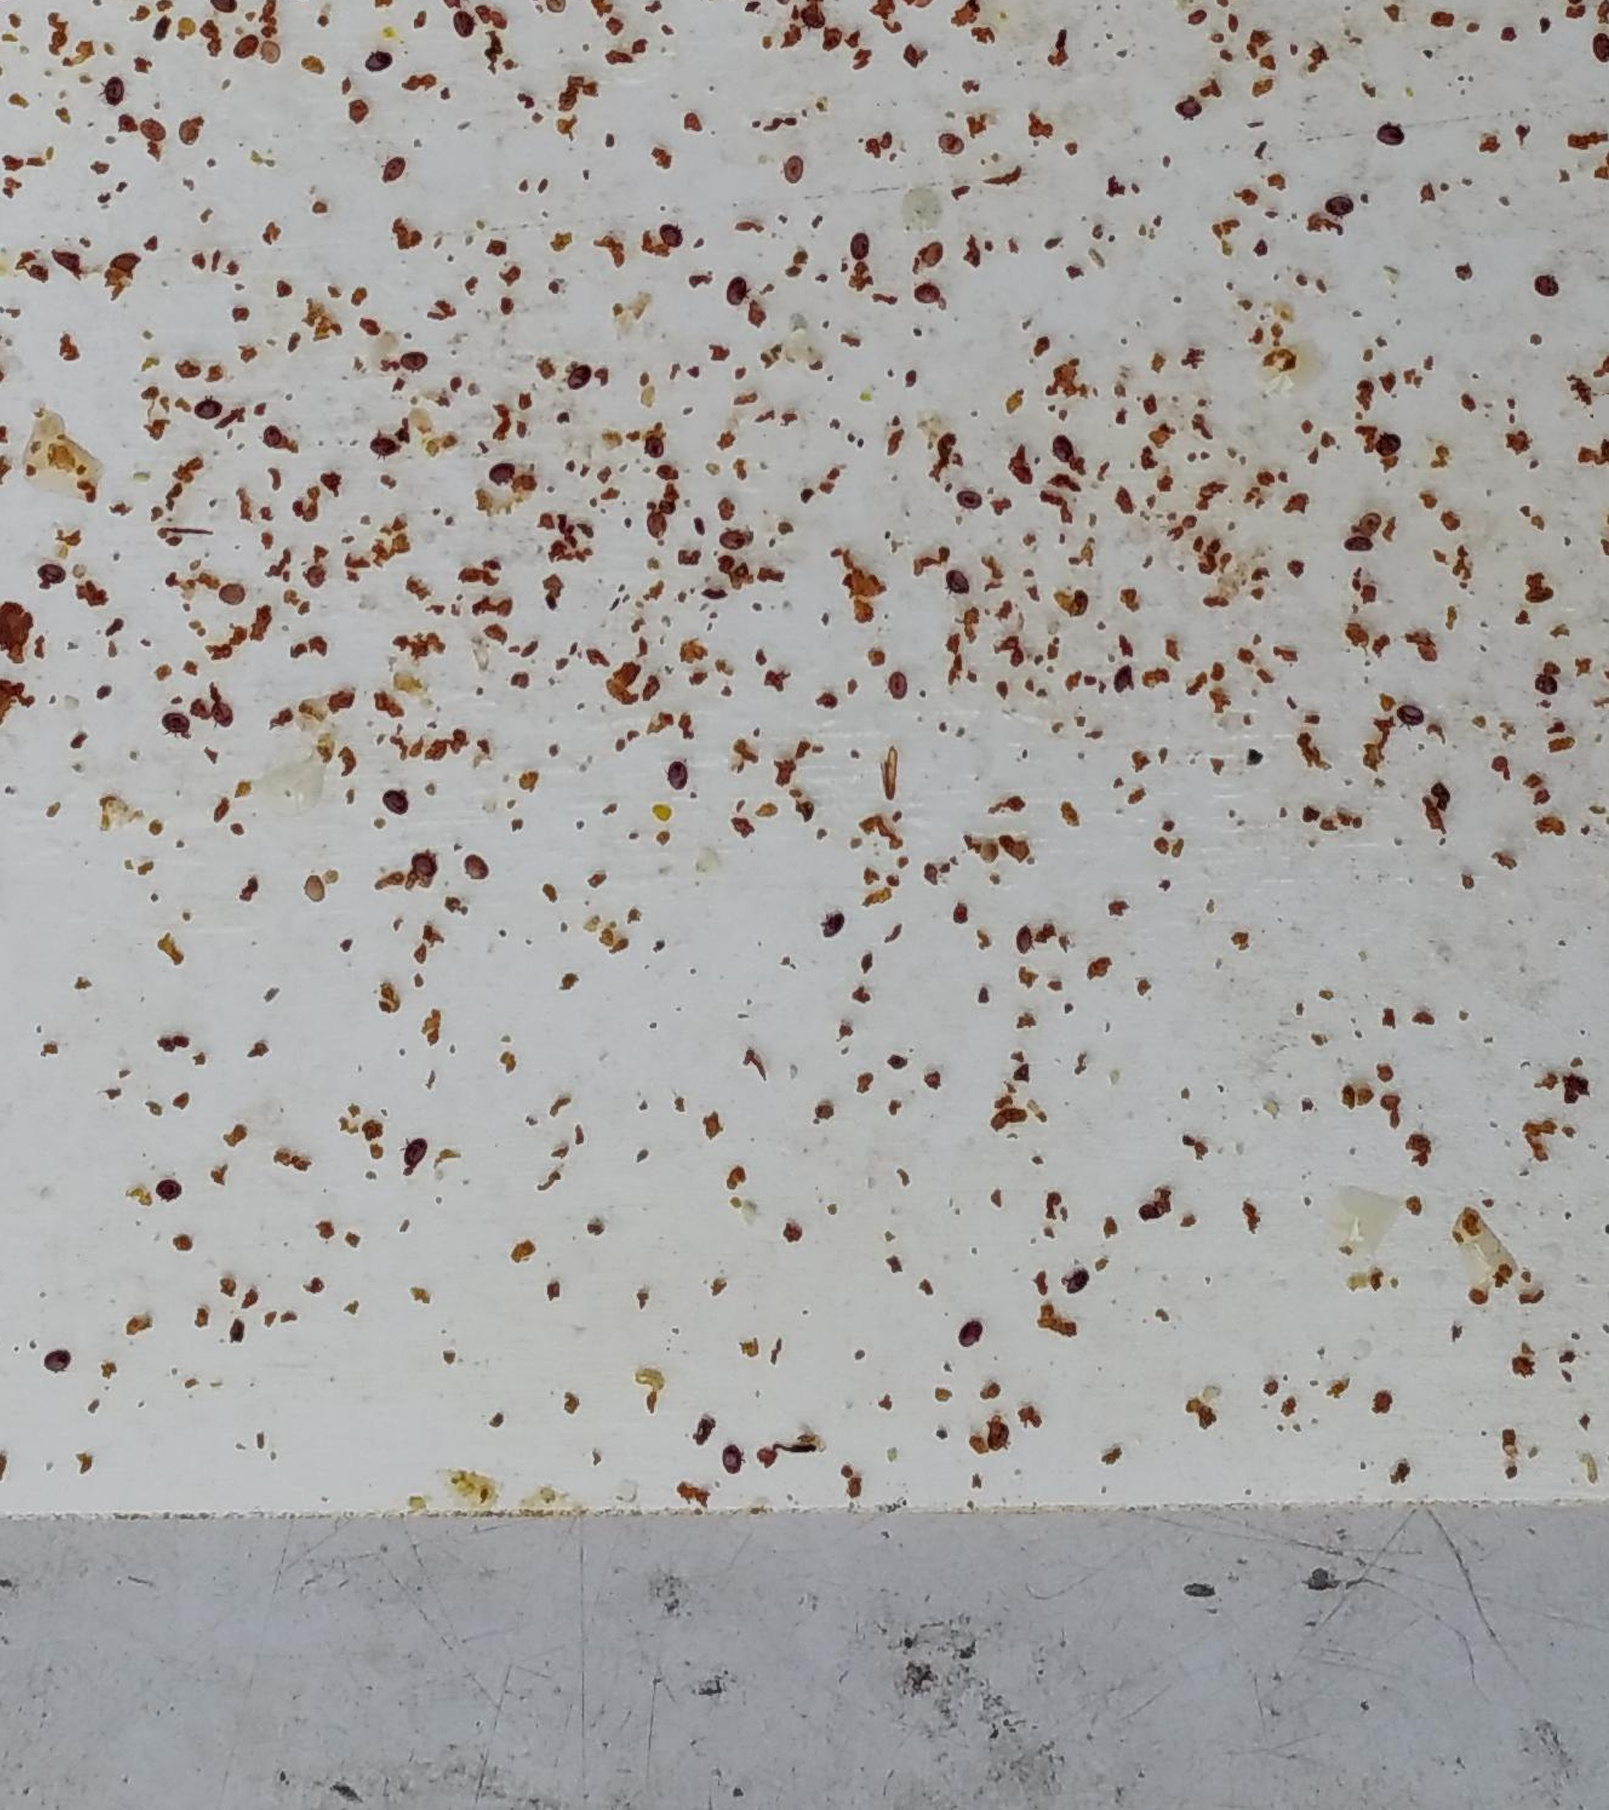Varroa: (130, 109, 172, 151), (373, 148, 415, 190), (391, 340, 433, 382), (770, 149, 812, 191), (1166, 89, 1208, 131), (1368, 113, 1410, 155), (30, 555, 71, 597), (360, 427, 402, 469), (635, 503, 677, 545), (1524, 663, 1566, 705), (1368, 426, 1410, 468), (374, 781, 416, 823), (811, 904, 853, 946), (92, 71, 134, 112), (166, 110, 207, 152), (559, 356, 599, 398), (718, 270, 758, 312), (842, 225, 884, 266), (907, 270, 947, 312), (913, 231, 954, 273), (930, 124, 971, 166), (1319, 186, 1361, 227), (1525, 266, 1566, 308), (634, 426, 674, 468), (935, 562, 975, 604), (947, 482, 988, 524), (710, 519, 752, 559), (1103, 660, 1145, 701), (1336, 522, 1378, 562), (1388, 696, 1430, 736), (294, 868, 335, 909), (455, 848, 495, 890), (655, 757, 697, 797), (37, 1341, 78, 1383), (393, 1131, 433, 1173), (947, 1313, 989, 1353), (1129, 1189, 1169, 1230), (227, 25, 267, 65), (446, 3, 486, 44), (357, 42, 398, 82), (188, 387, 228, 427), (649, 214, 690, 255), (154, 705, 194, 746), (200, 696, 241, 736), (211, 576, 252, 617), (480, 454, 520, 494), (877, 665, 918, 705), (1044, 427, 1084, 468), (405, 842, 446, 882), (1003, 920, 1044, 960), (148, 1170, 188, 1210), (713, 1439, 753, 1479), (1058, 1262, 1098, 1302)
